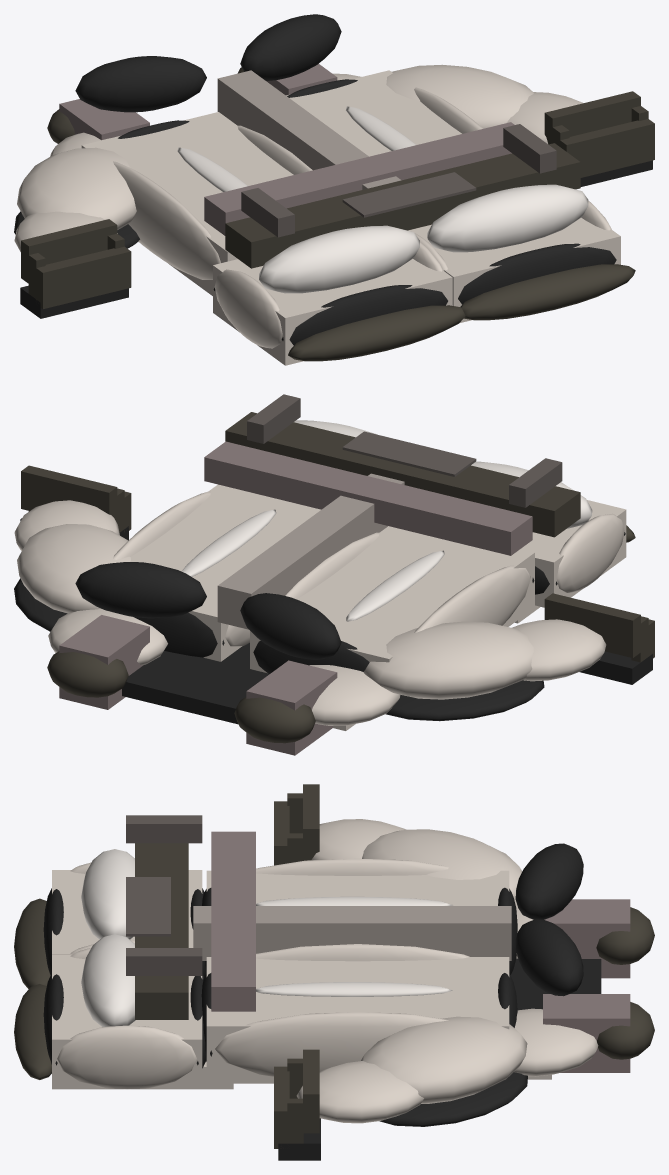
Rendered from CMU3DCivilianJacketSnowSuitWorldCloud.glb.
The picture shows the model from 3 angles, top to bottom: view 1: azimuth 30°, elevation 25°; view 2: azimuth 150°, elevation 25°; view 3: azimuth 270°, elevation 25°; orthographic projection. The views are drawn at different scales.
Visible parts, largest first — view 1: white lower belt, left white insulated upper cloth face, grey waist belt, right snow skirt padded channel, left snow skirt padded channel, grey central closure, left soft upper sleeve, right white insulated upper cloth face, left folded snow collar, left white insulated upper side fold left, left dark lower binding, right dark lower binding (+26 smaller); view 2: grey waist belt, left white insulated upper cloth face, left soft upper sleeve, white lower belt, right white insulated upper cloth face, grey central closure, recessed source-visible neck lining, right soft upper sleeve, right folded snow collar, left folded snow collar, left outward forearm fold, left white insulated upper side fold left (+25 smaller); view 3: right white insulated upper cloth face, grey central closure, right soft upper sleeve, grey waist belt, right white insulated upper side fold right, right flared lower skirt side fold right, left white insulated upper cloth face, white lower belt, right flared lower skirt cloth face, left soft upper sleeve, right outward forearm fold, right snow skirt padded channel (+34 smaller).
Boxes of the visible parts, box(x1,y1,x2,y2) form: white lower belt: box(225, 143, 580, 268); left white insulated upper cloth face: box(81, 112, 293, 295); grey waist belt: box(204, 122, 514, 235); right snow skirt padded channel: box(427, 184, 588, 252); left snow skirt padded channel: box(259, 225, 419, 293); grey central closure: box(217, 70, 401, 189); left soft upper sleeve: box(17, 147, 136, 229); right white insulated upper cloth face: box(286, 70, 461, 156); left folded snow collar: box(75, 56, 206, 112); left white insulated upper side fold left: box(113, 161, 220, 279); left dark lower binding: box(288, 305, 465, 361); right dark lower binding: box(460, 264, 635, 320); grey waist belt: box(204, 441, 532, 555); left white insulated upper cloth face: box(250, 526, 534, 673); left soft upper sleeve: box(363, 621, 533, 699); white lower belt: box(225, 412, 580, 537); right white insulated upper cloth face: box(130, 484, 320, 661); grey central closure: box(217, 473, 404, 629); recessed source-visible neck lining: box(122, 643, 269, 724); right soft upper sleeve: box(17, 524, 130, 613); right folded snow collar: box(75, 562, 206, 618); left folded snow collar: box(240, 593, 341, 659); left outward forearm fold: box(512, 619, 606, 681); left white insulated upper side fold left: box(414, 565, 530, 632); right white insulated upper cloth face: box(206, 957, 509, 1083); grey central closure: box(193, 906, 511, 960); right soft upper sleeve: box(361, 1016, 527, 1103); grey waist belt: box(211, 831, 255, 1011); right white insulated upper side fold right: box(215, 1012, 448, 1076); right flared lower skirt side fold right: box(57, 1025, 196, 1089); left white insulated upper cloth face: box(206, 870, 509, 905); white lower belt: box(135, 843, 188, 1019); right flared lower skirt cloth face: box(52, 955, 202, 1089); left soft upper sleeve: box(362, 829, 522, 899); right outward forearm fold: box(296, 1061, 423, 1123); right snow skirt padded channel: box(81, 934, 135, 1026).
Size of the model in its own units: 0.5112 by 0.097 by 0.4469.
8 materials, 1 textured.
